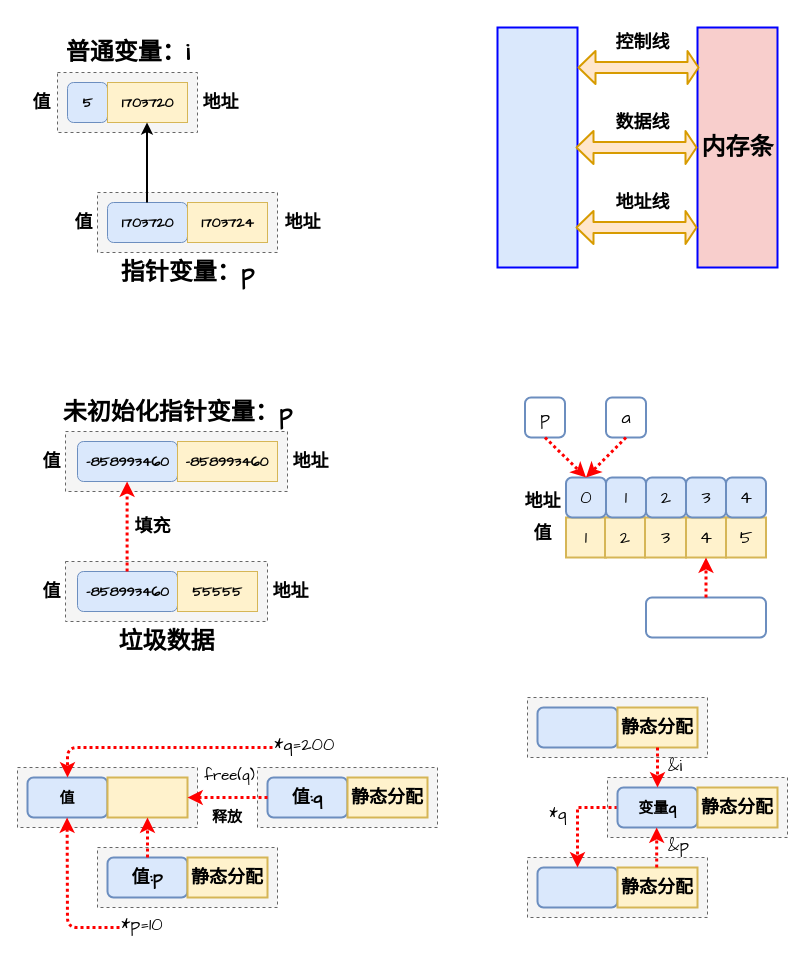
The diagram is 805 pixels wide and 965 high, and some of its shapes have lost their labels. Here are the shapes that lost their labels. From the top down, the centre of each, then its label:
pixel 537 147: CPU
pixel 705 617: p[3] = *(p + 3)
pixel 577 727: 变量i=5
pixel 147 797: 动态分配
pixel 577 887: 指针变量p
